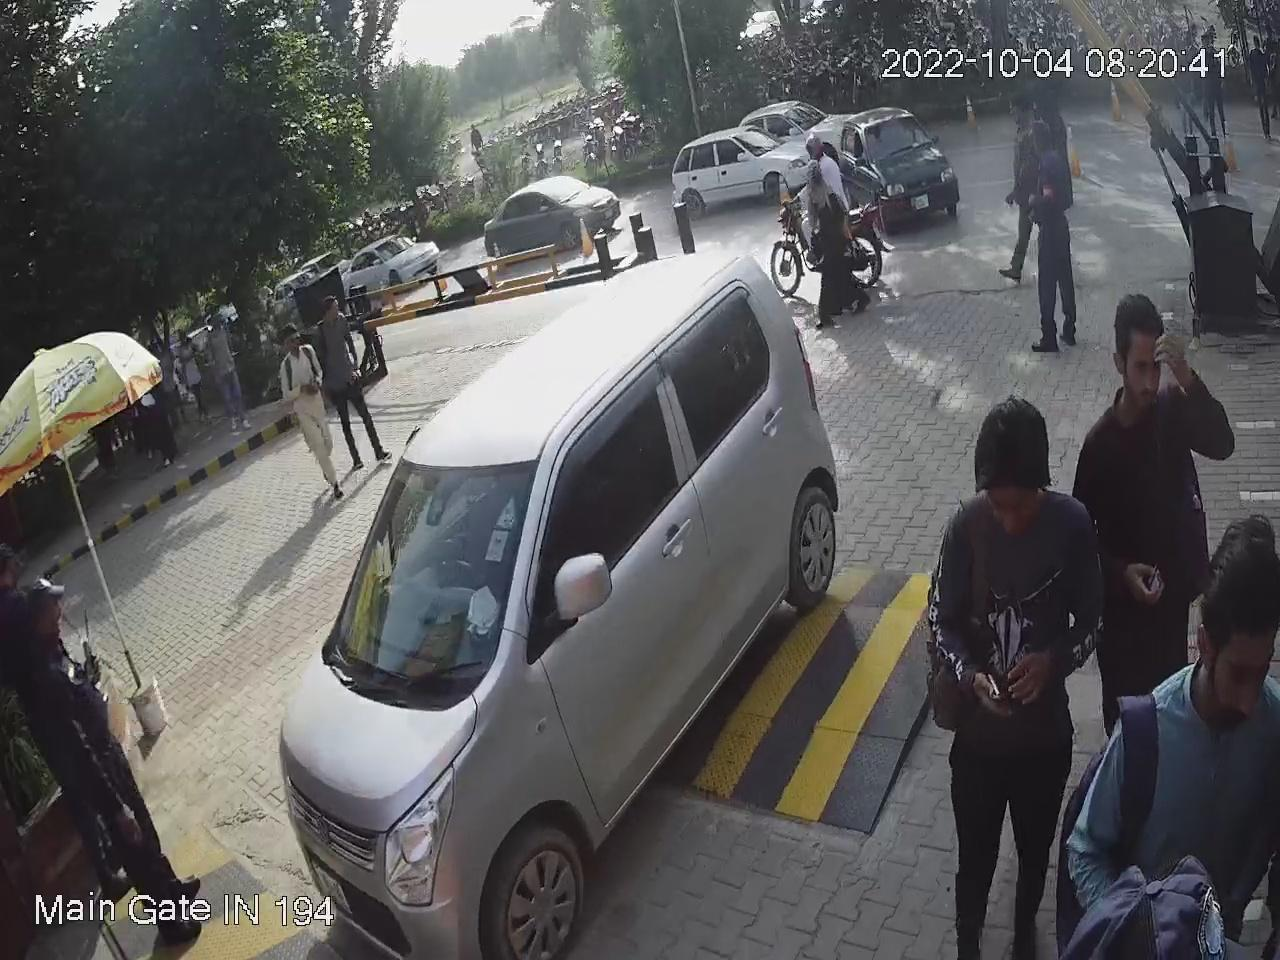windshield: (326, 453, 548, 698)
